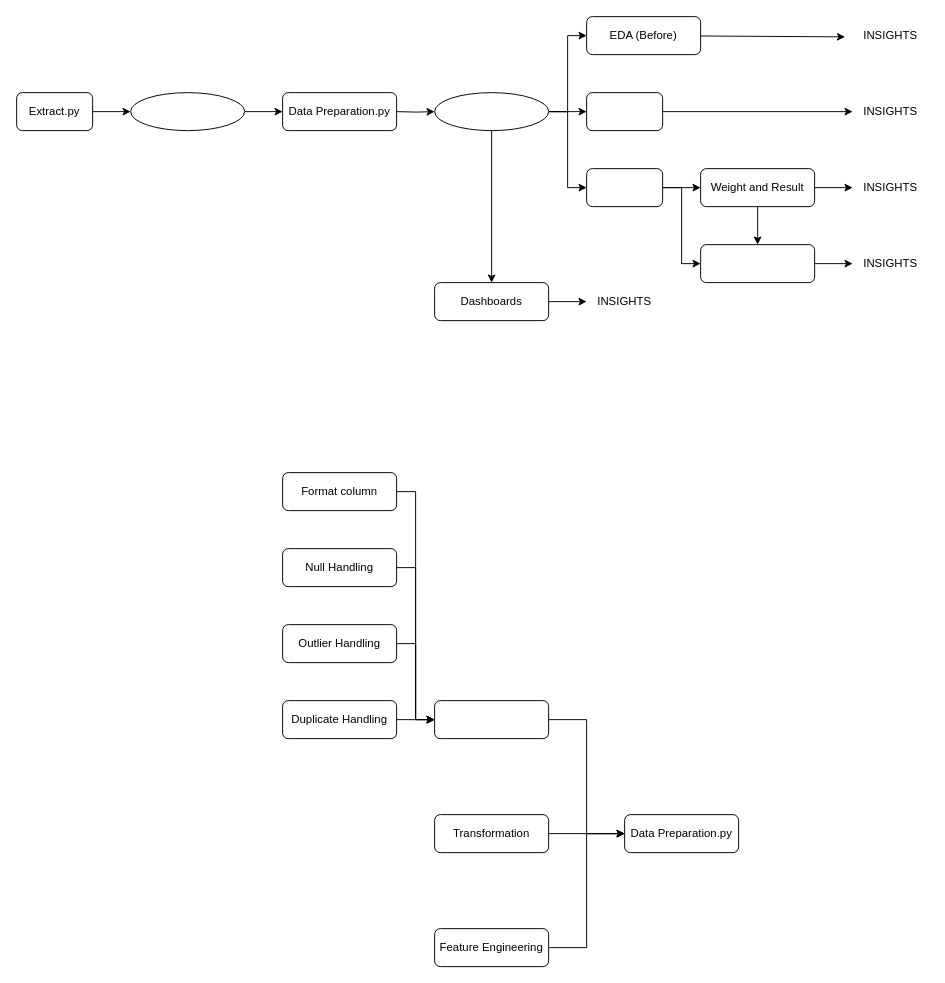
This 945x983 diagram has some shape labels left out. The shapes that lost their labels are listed below. From the top down, each one's centre as x and y in pixels, then its label:
At pixel 187 111: "raw_data.csv".
At pixel 491 111: "clean_data.csv".
At pixel 624 111: "Sentiment Analysis".
At pixel 624 187: "Modelling".
At pixel 757 263: "EDA (After)".
At pixel 491 719: "Data Cleaning".
